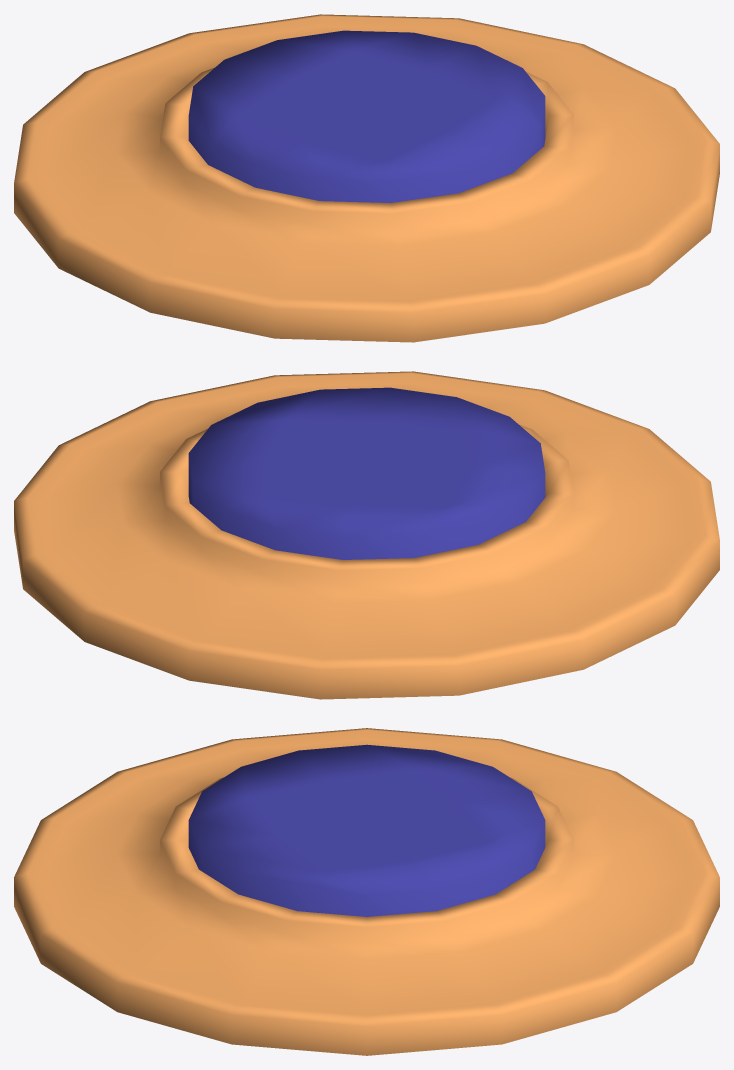
Rendered from RM-Button-TypeGold.fbx.
3 views of the same model, one above another, from view 1: azimuth 30°, elevation 25°; view 2: azimuth 150°, elevation 25°; view 3: azimuth 270°, elevation 25° (orthographic).
Visible parts, largest first — view 1: Button.Press, ButtonHolder; view 2: Button.Press, ButtonHolder; view 3: Button.Press, ButtonHolder.
Boxes of the visible parts, x1,y1,x2,y2 form: Button.Press: [14, 14, 719, 342]; ButtonHolder: [188, 30, 545, 202]; Button.Press: [14, 371, 719, 699]; ButtonHolder: [188, 387, 545, 559]; Button.Press: [14, 728, 719, 1055]; ButtonHolder: [188, 744, 545, 916].
Size of the model in its own units: 0.2 by 0.0469 by 0.2.
